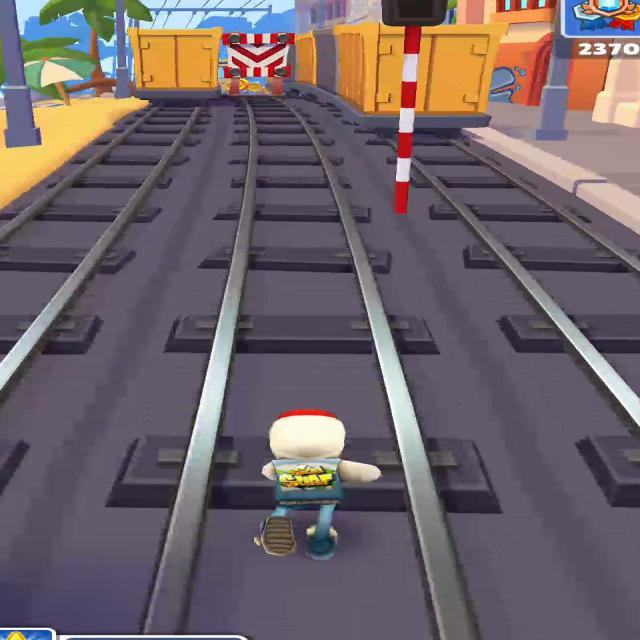jump-barrier: (222, 32, 294, 95)
train: (298, 22, 402, 130), (415, 24, 505, 130), (126, 28, 226, 106)
